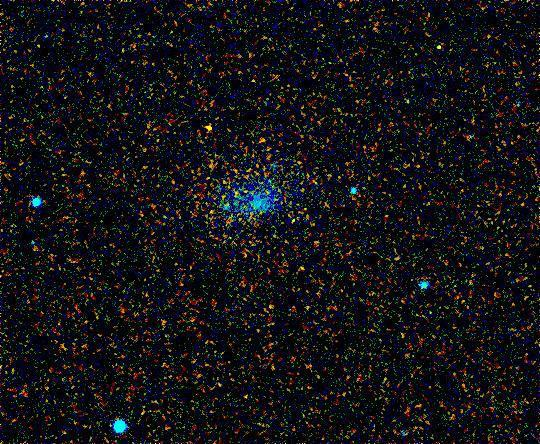star: (195, 114, 225, 144)
